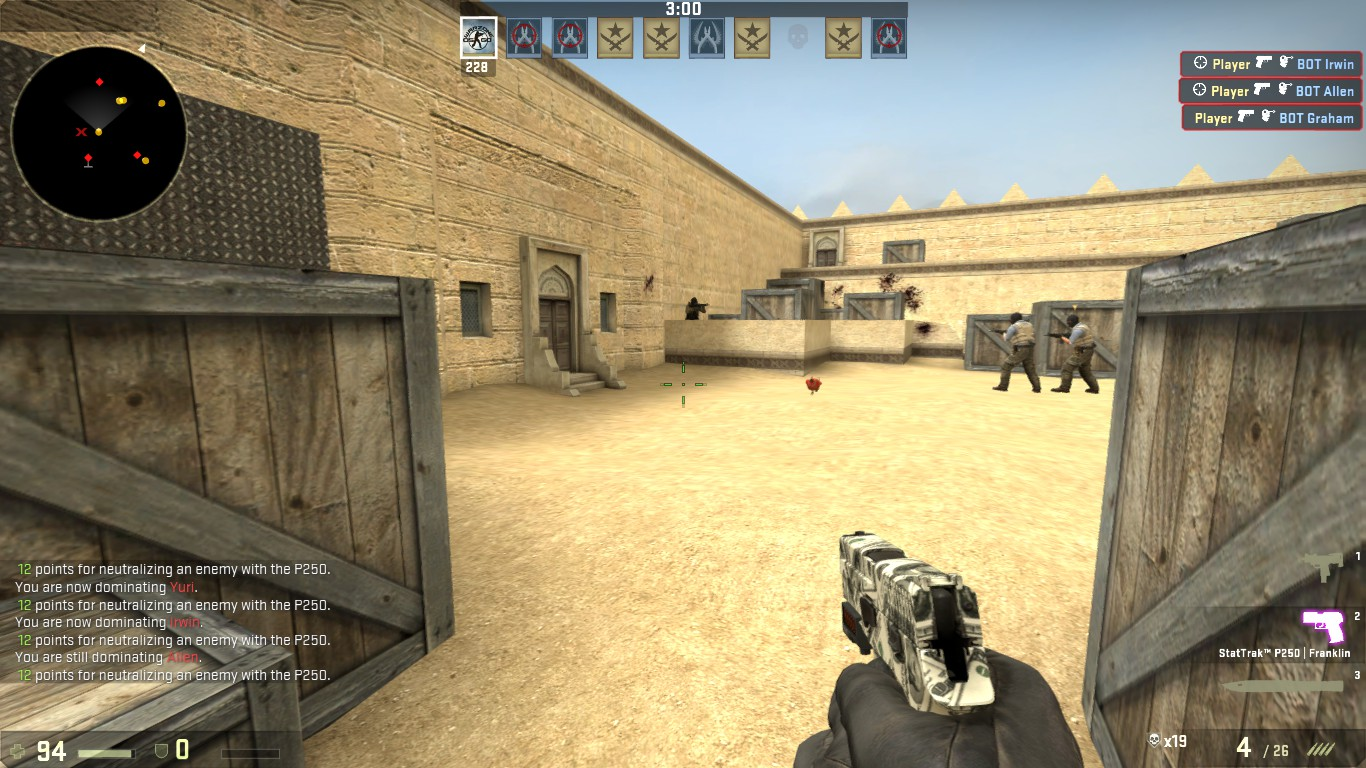c: (684, 296, 704, 323)
ch: (690, 297, 698, 306)
t: (1058, 311, 1096, 396), (1000, 311, 1036, 391)
th: (1009, 310, 1025, 329), (1066, 313, 1084, 329)
